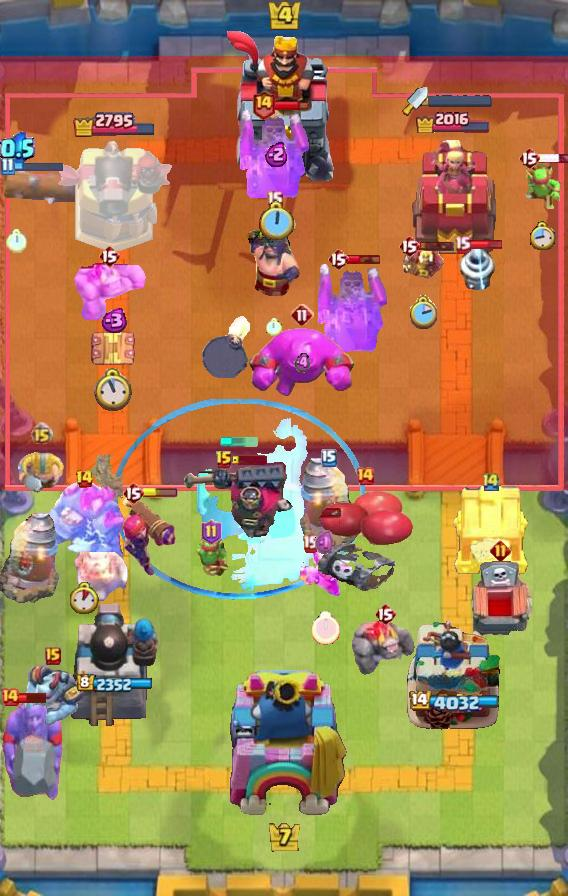archer-queen: (0, 695, 66, 807)
arrows: (298, 545, 352, 599)
baby-dragon: (201, 316, 253, 378)
bar: (409, 138, 497, 256)
bomb: (451, 482, 531, 576)
bowler: (399, 243, 445, 281)
cannoneer-tower: (42, 480, 126, 572)
clone: (247, 326, 357, 400)
electro-spirit: (0, 131, 36, 166), (98, 308, 128, 333), (265, 141, 289, 167), (316, 529, 337, 556), (295, 352, 309, 374)
elixir: (94, 368, 132, 412), (260, 201, 297, 243), (408, 295, 437, 329), (312, 611, 341, 645), (69, 582, 98, 614), (528, 222, 555, 251), (5, 229, 27, 253), (266, 318, 282, 336)
elixir-golem-mid: (465, 560, 535, 646)
elixir-golem-small: (21, 661, 85, 727)
emote: (12, 161, 64, 172), (12, 692, 49, 705), (418, 240, 455, 252), (346, 253, 382, 265), (275, 99, 310, 111), (469, 238, 504, 249), (231, 455, 267, 465), (142, 488, 178, 498), (538, 152, 568, 163)
fisherman: (81, 455, 123, 500)
giant-snowball: (521, 163, 563, 209), (193, 534, 229, 576)
goblin-brawler: (89, 327, 137, 371)
goblin-drill: (455, 244, 499, 294)
goblin-giant: (17, 451, 65, 494)
ice-spirit: (219, 437, 259, 447)
inferno-tower: (181, 457, 297, 543)
king-tower: (219, 670, 349, 826), (223, 31, 345, 181)
king-tower-bar: (428, 95, 492, 107)
magic-archer: (299, 457, 359, 549), (0, 512, 60, 604)
mega-minion: (119, 493, 179, 579)
minion: (0, 166, 102, 206)
monk: (245, 211, 303, 297)
pad_0: (112, 399, 366, 601)
queen-tower: (404, 617, 502, 731)
royal-giant: (74, 552, 130, 602)
royal-recruit-evolution: (314, 489, 416, 597)
selected: (71, 111, 156, 138), (407, 690, 499, 714), (416, 109, 493, 133), (75, 674, 152, 694)
skeleton-king-bar: (240, 110, 314, 198), (318, 264, 392, 352)
text: (252, 88, 277, 119), (290, 303, 314, 327), (31, 422, 54, 446), (201, 519, 222, 545), (518, 146, 540, 170), (398, 234, 420, 258), (98, 244, 120, 268), (327, 247, 349, 271), (122, 481, 144, 505), (374, 602, 396, 626), (490, 539, 511, 560), (481, 471, 501, 492), (355, 466, 375, 486), (0, 687, 20, 707), (74, 469, 93, 489), (215, 450, 233, 470), (265, 190, 282, 209), (453, 234, 470, 253), (302, 535, 319, 553), (321, 449, 337, 467), (45, 647, 61, 665), (1, 157, 16, 175)
tower-bar: (53, 138, 175, 256), (69, 599, 159, 731)
valkyrie-evolution: (73, 262, 147, 322), (351, 615, 419, 675)
